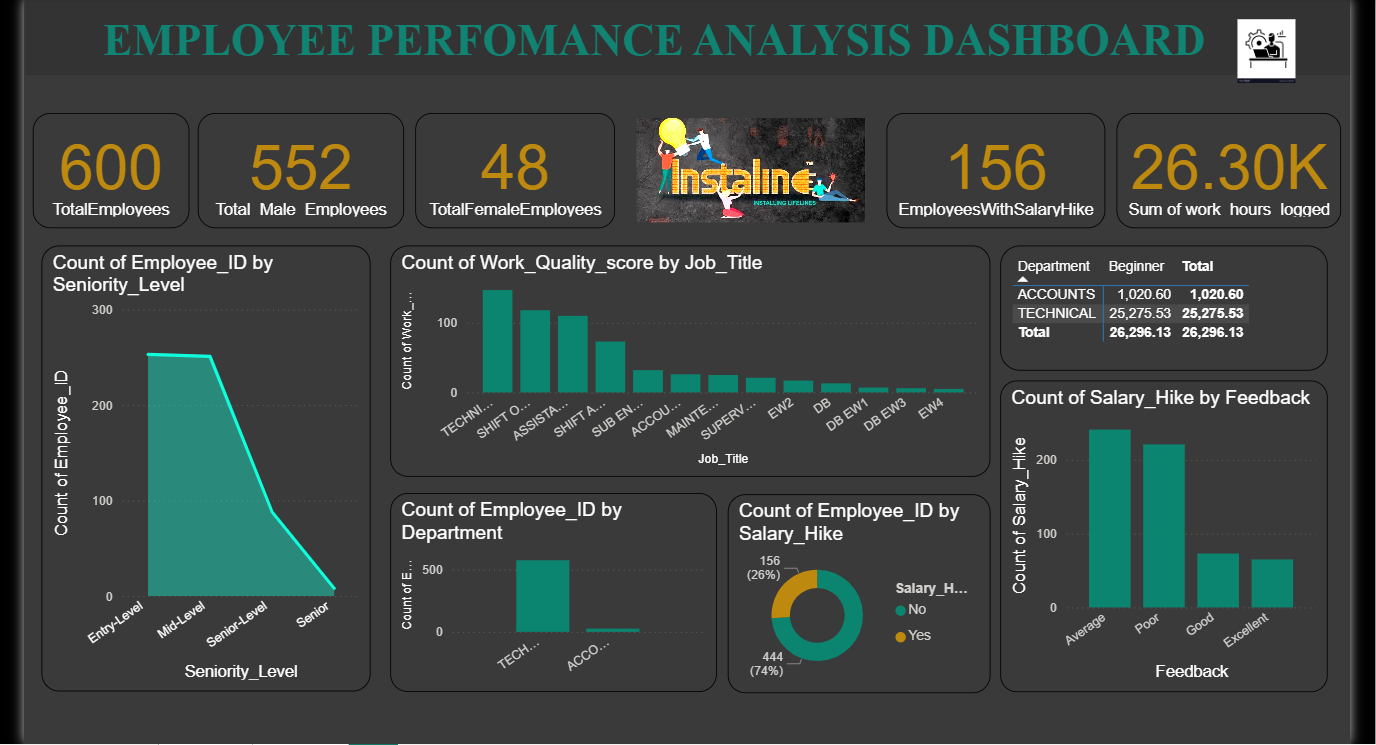

The page's visual inventory and layout, read from the dashboard file:
{"tool":"powerbi","page":{"name":"Page 1","canvas":[1280,720],"ordinal":0},"visuals":[{"type":"textbox","box":[1.2,0,1278.8,74.8],"z":0},{"type":"card","fields":{"Values":["Expanded_EMPLOYEE_PERFORMANCE_DATASET.TotalEmployees"]},"box":[8.4,111,150.8,111],"z":1000},{"type":"card","fields":{"Values":["Expanded_EMPLOYEE_PERFORMANCE_DATASET.TotalMaleEmployees"]},"box":[167.7,111,199.1,111],"z":2000},{"type":"card","fields":{"Values":["Expanded_EMPLOYEE_PERFORMANCE_DATASET.TotalFemaleEmployees"]},"box":[377.6,111,193,111],"z":3000},{"type":"card","fields":{"Values":["Expanded_EMPLOYEE_PERFORMANCE_DATASET.EmployeesWithSalaryHike"]},"box":[832.4,111,211.1,111],"z":4000},{"type":"clusteredColumnChart","fields":{"Category":["Expanded_EMPLOYEE_PERFORMANCE_DATASET.Department"],"Y":["CountNonNull(Expanded_EMPLOYEE_PERFORMANCE_DATASET.Employee_ID)"]},"box":[353.5,477.8,314.9,191.8],"z":5000},{"type":"donutChart","fields":{"Y":["CountNonNull(Expanded_EMPLOYEE_PERFORMANCE_DATASET.Employee_ID)"],"Category":["Expanded_EMPLOYEE_PERFORMANCE_DATASET.Salary_Hike"]},"box":[679.2,479,253.4,191.8],"z":6000},{"type":"clusteredColumnChart","fields":{"Category":["Expanded_EMPLOYEE_PERFORMANCE_DATASET.Job_Title"],"Y":["CountNonNull(Expanded_EMPLOYEE_PERFORMANCE_DATASET.Work_Quality_score)"]},"box":[353.5,238.9,579.1,223.2],"z":7000},{"type":"areaChart","fields":{"Y":["CountNonNull(Expanded_EMPLOYEE_PERFORMANCE_DATASET.Employee_ID)"],"Category":["Expanded_EMPLOYEE_PERFORMANCE_DATASET.Seniority_Level"]},"box":[20.5,238.9,317.3,430.7],"z":8000},{"type":"pivotTable","fields":{"Rows":["Expanded_EMPLOYEE_PERFORMANCE_DATASET.Department"],"Columns":["Expanded_EMPLOYEE_PERFORMANCE_DATASET.Experience_Category"],"Values":["Sum(Expanded_EMPLOYEE_PERFORMANCE_DATASET.work_hours_logged)"]},"box":[942.2,238.9,316.1,120.6],"z":9000},{"type":"columnChart","fields":{"Category":["Expanded_EMPLOYEE_PERFORMANCE_DATASET.Feedback"],"Y":["CountNonNull(Expanded_EMPLOYEE_PERFORMANCE_DATASET.Salary_Hike)"]},"box":[942.2,369.2,316.1,300.4],"z":10000},{"type":"card","fields":{"Values":["Sum(Expanded_EMPLOYEE_PERFORMANCE_DATASET.work_hours_logged)"]},"box":[1054.4,111,217.2,111],"z":11000},{"type":"image","box":[1118.4,15.7,161.7,71.2],"z":12000},{"type":"image","box":[586.3,111,230.4,111],"z":12501}]}

Visuals, with their boxes on the page's 1280x720 design canvas (x1, y1, x2, y2). These are canvas units, not pixel positions in the 1376x745 screenshot, which may show the page scaled, cropped or inside an application window:
textbox: (left=1, top=0, right=1280, bottom=75)
card - Expanded_EMPLOYEE_PERFORMANCE_DATASET.TotalEmployees: (left=8, top=111, right=159, bottom=222)
card - Expanded_EMPLOYEE_PERFORMANCE_DATASET.TotalMaleEmployees: (left=168, top=111, right=367, bottom=222)
card - Expanded_EMPLOYEE_PERFORMANCE_DATASET.TotalFemaleEmployees: (left=378, top=111, right=571, bottom=222)
card - Expanded_EMPLOYEE_PERFORMANCE_DATASET.EmployeesWithSalaryHike: (left=832, top=111, right=1044, bottom=222)
clusteredColumnChart - Expanded_EMPLOYEE_PERFORMANCE_DATASET.Department x CountNonNull(Expanded_EMPLOYEE_PERFORMANCE_DATASET.Employee_ID): (left=354, top=478, right=668, bottom=670)
donutChart - CountNonNull(Expanded_EMPLOYEE_PERFORMANCE_DATASET.Employee_ID) x Expanded_EMPLOYEE_PERFORMANCE_DATASET.Salary_Hike: (left=679, top=479, right=933, bottom=671)
clusteredColumnChart - Expanded_EMPLOYEE_PERFORMANCE_DATASET.Job_Title x CountNonNull(Expanded_EMPLOYEE_PERFORMANCE_DATASET.Work_Quality_score): (left=354, top=239, right=933, bottom=462)
areaChart - CountNonNull(Expanded_EMPLOYEE_PERFORMANCE_DATASET.Employee_ID) x Expanded_EMPLOYEE_PERFORMANCE_DATASET.Seniority_Level: (left=20, top=239, right=338, bottom=670)
pivotTable - Expanded_EMPLOYEE_PERFORMANCE_DATASET.Department x Expanded_EMPLOYEE_PERFORMANCE_DATASET.Experience_Category: (left=942, top=239, right=1258, bottom=360)
columnChart - Expanded_EMPLOYEE_PERFORMANCE_DATASET.Feedback x CountNonNull(Expanded_EMPLOYEE_PERFORMANCE_DATASET.Salary_Hike): (left=942, top=369, right=1258, bottom=670)
card - Sum(Expanded_EMPLOYEE_PERFORMANCE_DATASET.work_hours_logged): (left=1054, top=111, right=1272, bottom=222)
image: (left=1118, top=16, right=1280, bottom=87)
image: (left=586, top=111, right=817, bottom=222)
